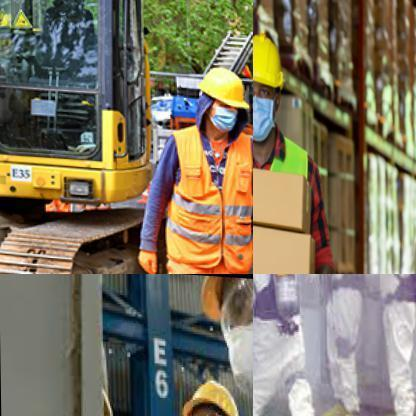vest: (174, 124, 252, 273), (253, 127, 313, 273), (253, 274, 313, 404), (372, 274, 415, 406), (320, 274, 367, 384)
